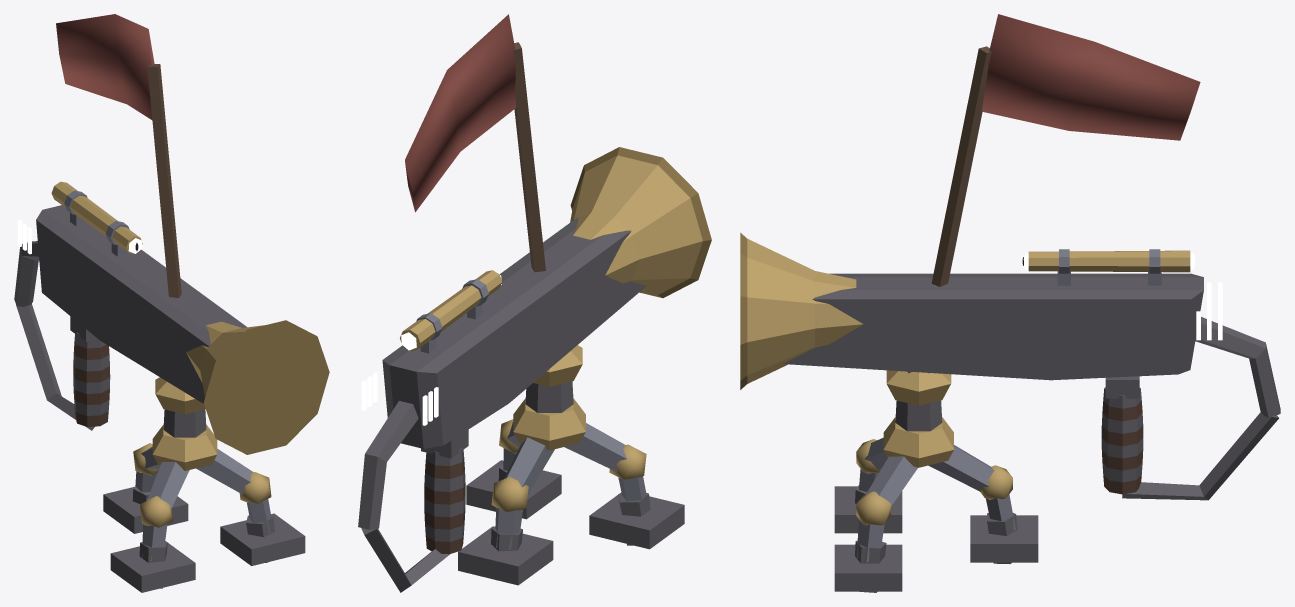
The model's file is gun-warning-shot.glb.
3 renders of one model, left to right at view 1: azimuth 30°, elevation 25°; view 2: azimuth 150°, elevation 25°; view 3: azimuth 270°, elevation 25°, orthographic. The views are drawn at different scales.
Parts seen in each view (by area): view 1: gun-warning-shot; view 2: gun-warning-shot, pulse_breath; view 3: gun-warning-shot, pulse_breath.
Part boxes in pixels (bbox=[...]): gun-warning-shot: bbox=[14, 14, 329, 592]; gun-warning-shot: bbox=[358, 14, 711, 592]; pulse_breath: bbox=[361, 372, 438, 425]; gun-warning-shot: bbox=[740, 14, 1280, 592]; pulse_breath: bbox=[1196, 282, 1222, 340].
Bounding box in the file's own units: 0.3037 × 0.8874 × 0.7954.
